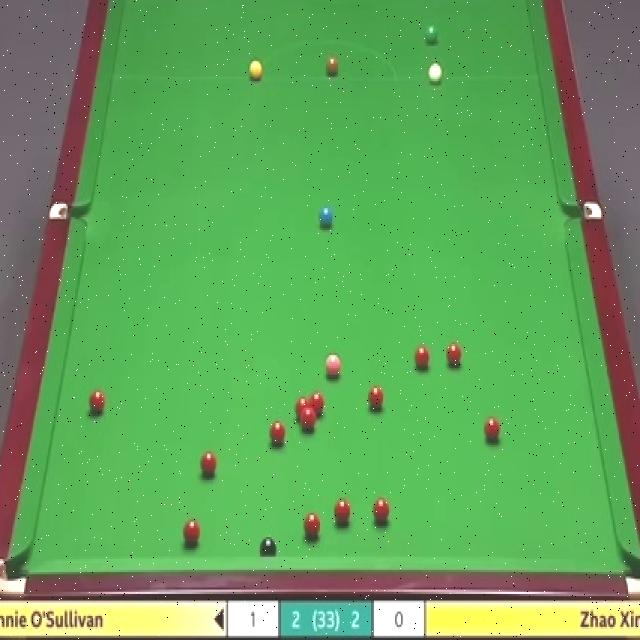black-ball: (259, 538, 277, 555)
blue-ball: (318, 205, 332, 228)
brown-ball: (324, 55, 340, 77)
green-ball: (426, 21, 438, 43)
pink-ball: (324, 347, 339, 374)
red-ball: (333, 498, 352, 528), (268, 418, 287, 448), (198, 450, 218, 477), (182, 517, 201, 545), (302, 511, 321, 539), (300, 406, 317, 436), (483, 414, 500, 444), (307, 390, 326, 416), (445, 340, 462, 369), (88, 390, 106, 414), (373, 499, 390, 522), (369, 384, 384, 410), (414, 346, 430, 369), (296, 397, 310, 422)
white-ball: (428, 61, 443, 82)
yellow-ball: (246, 60, 264, 81)
